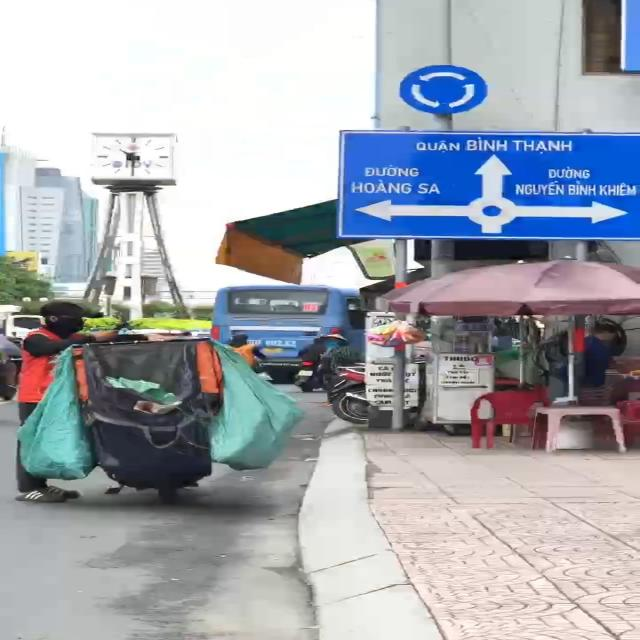Bien bao noi giao nhau chay theo vong xuyen: (393, 63, 488, 117)
